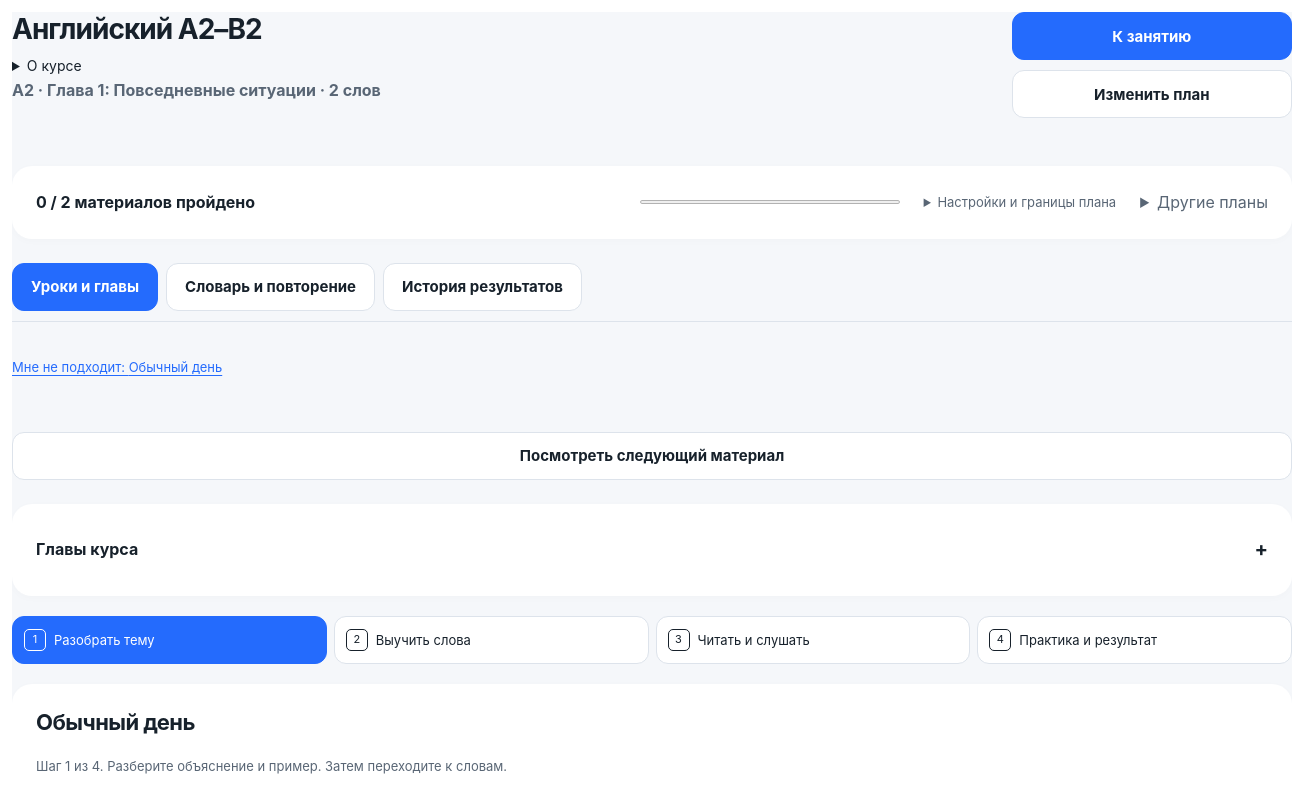
Test: next material opens an existing lesson without replacing the plan
Click the button "4 Практика и результат".
click(1135, 640)  # box [977, 616, 1292, 664]
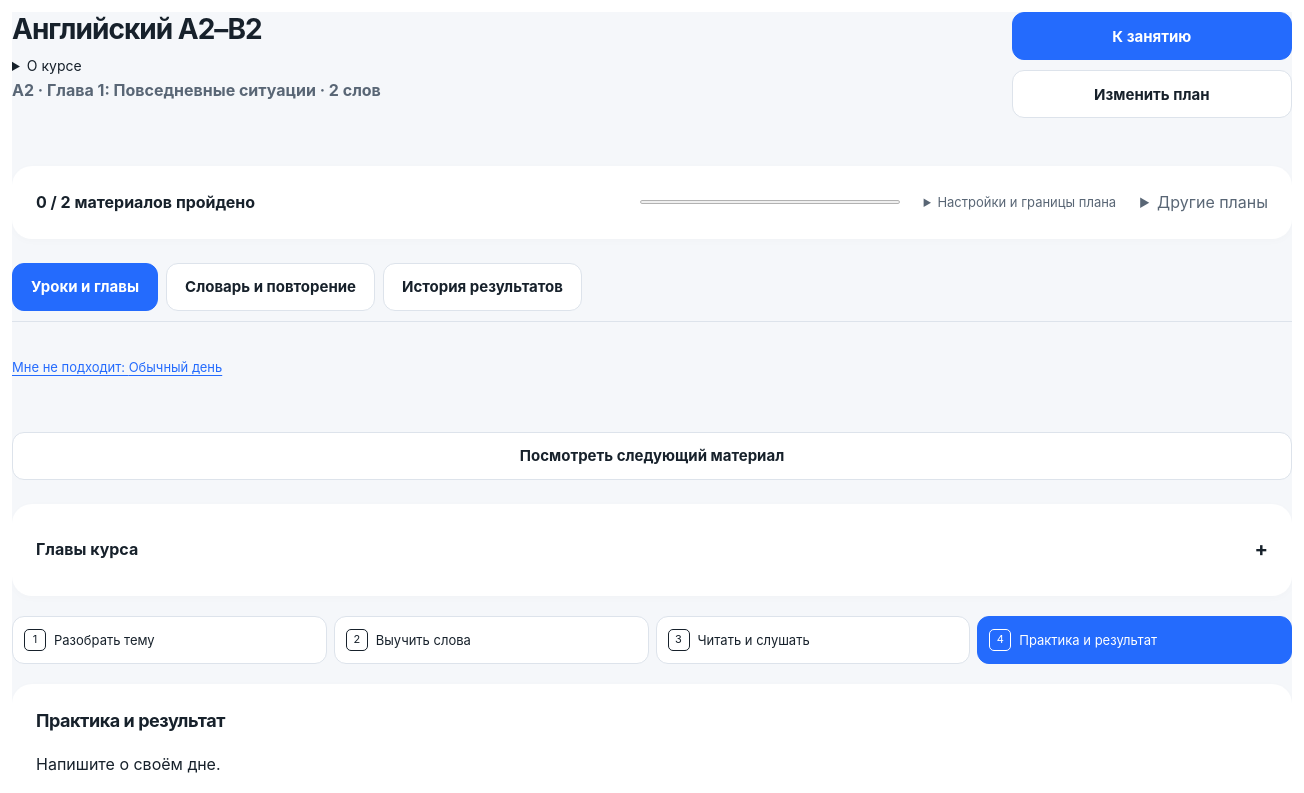
Click the button "Посмотреть следующий материал".
click(652, 456)  # box [12, 432, 1292, 480]
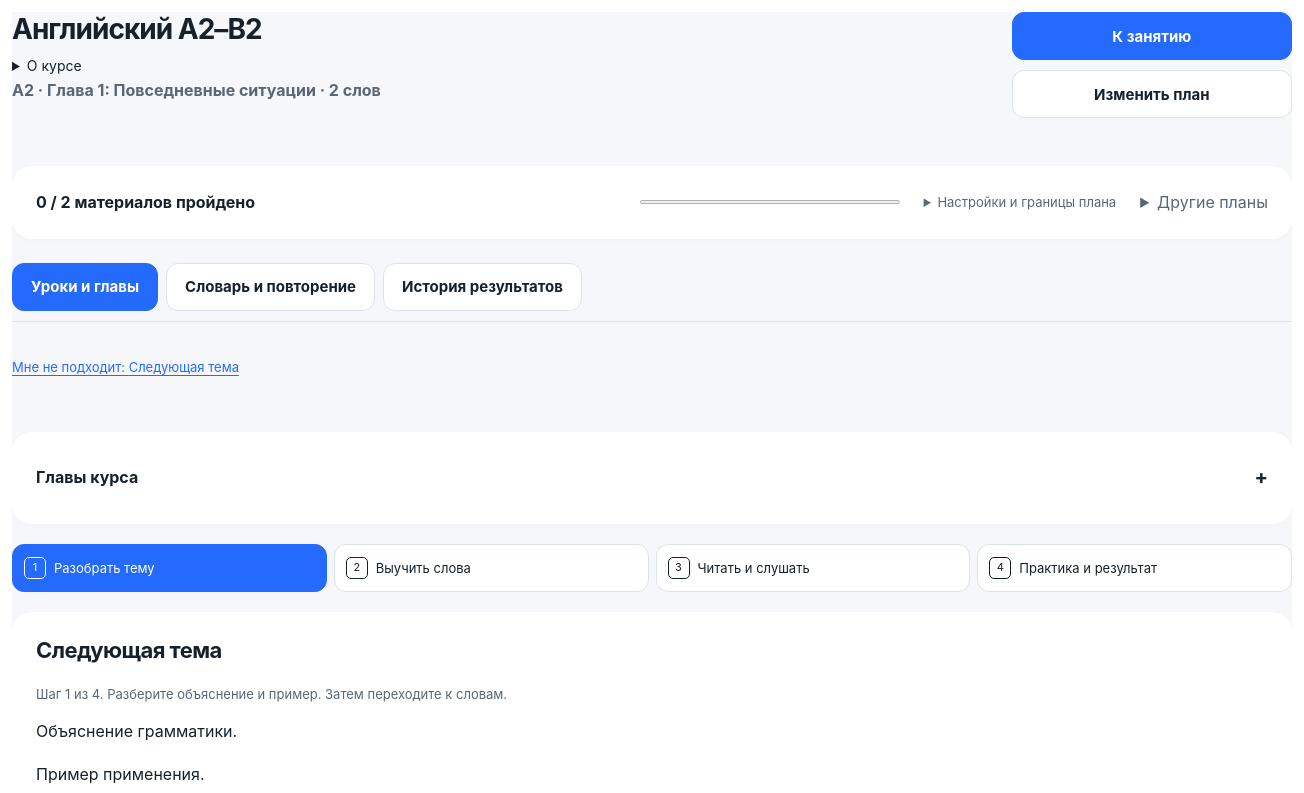
Expected: the heading "Следующая тема" is shown, [36, 637, 222, 663]
